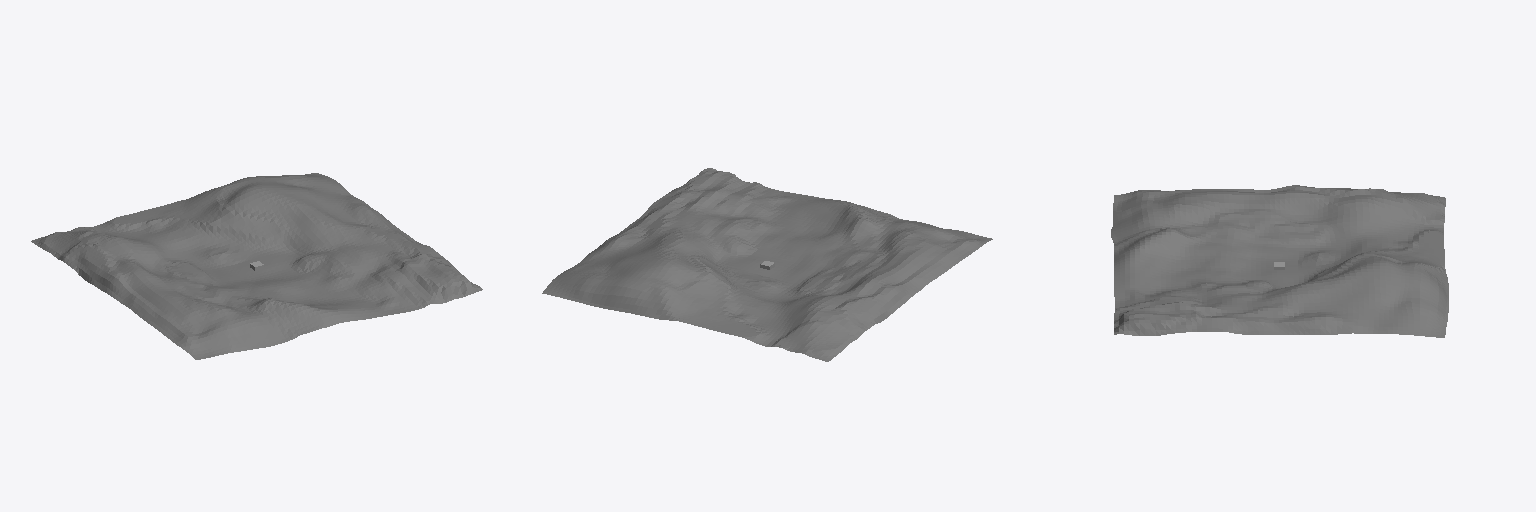
File: terrain.obj
The picture shows the model from 3 angles: view 1: azimuth 30°, elevation 25°; view 2: azimuth 150°, elevation 25°; view 3: azimuth 270°, elevation 25°; orthographic projection.
Parts seen in each view (by area): view 1: Plane_Plane.002; view 2: Plane_Plane.002; view 3: Plane_Plane.002.
Boxes of the visible parts, x1=… form: Plane_Plane.002: x1=31, y1=173, x2=482, y2=359; Plane_Plane.002: x1=542, y1=168, x2=992, y2=361; Plane_Plane.002: x1=1111, y1=185, x2=1448, y2=337.
Size of the model in its own units: 63.5 by 7.34 by 63.96.